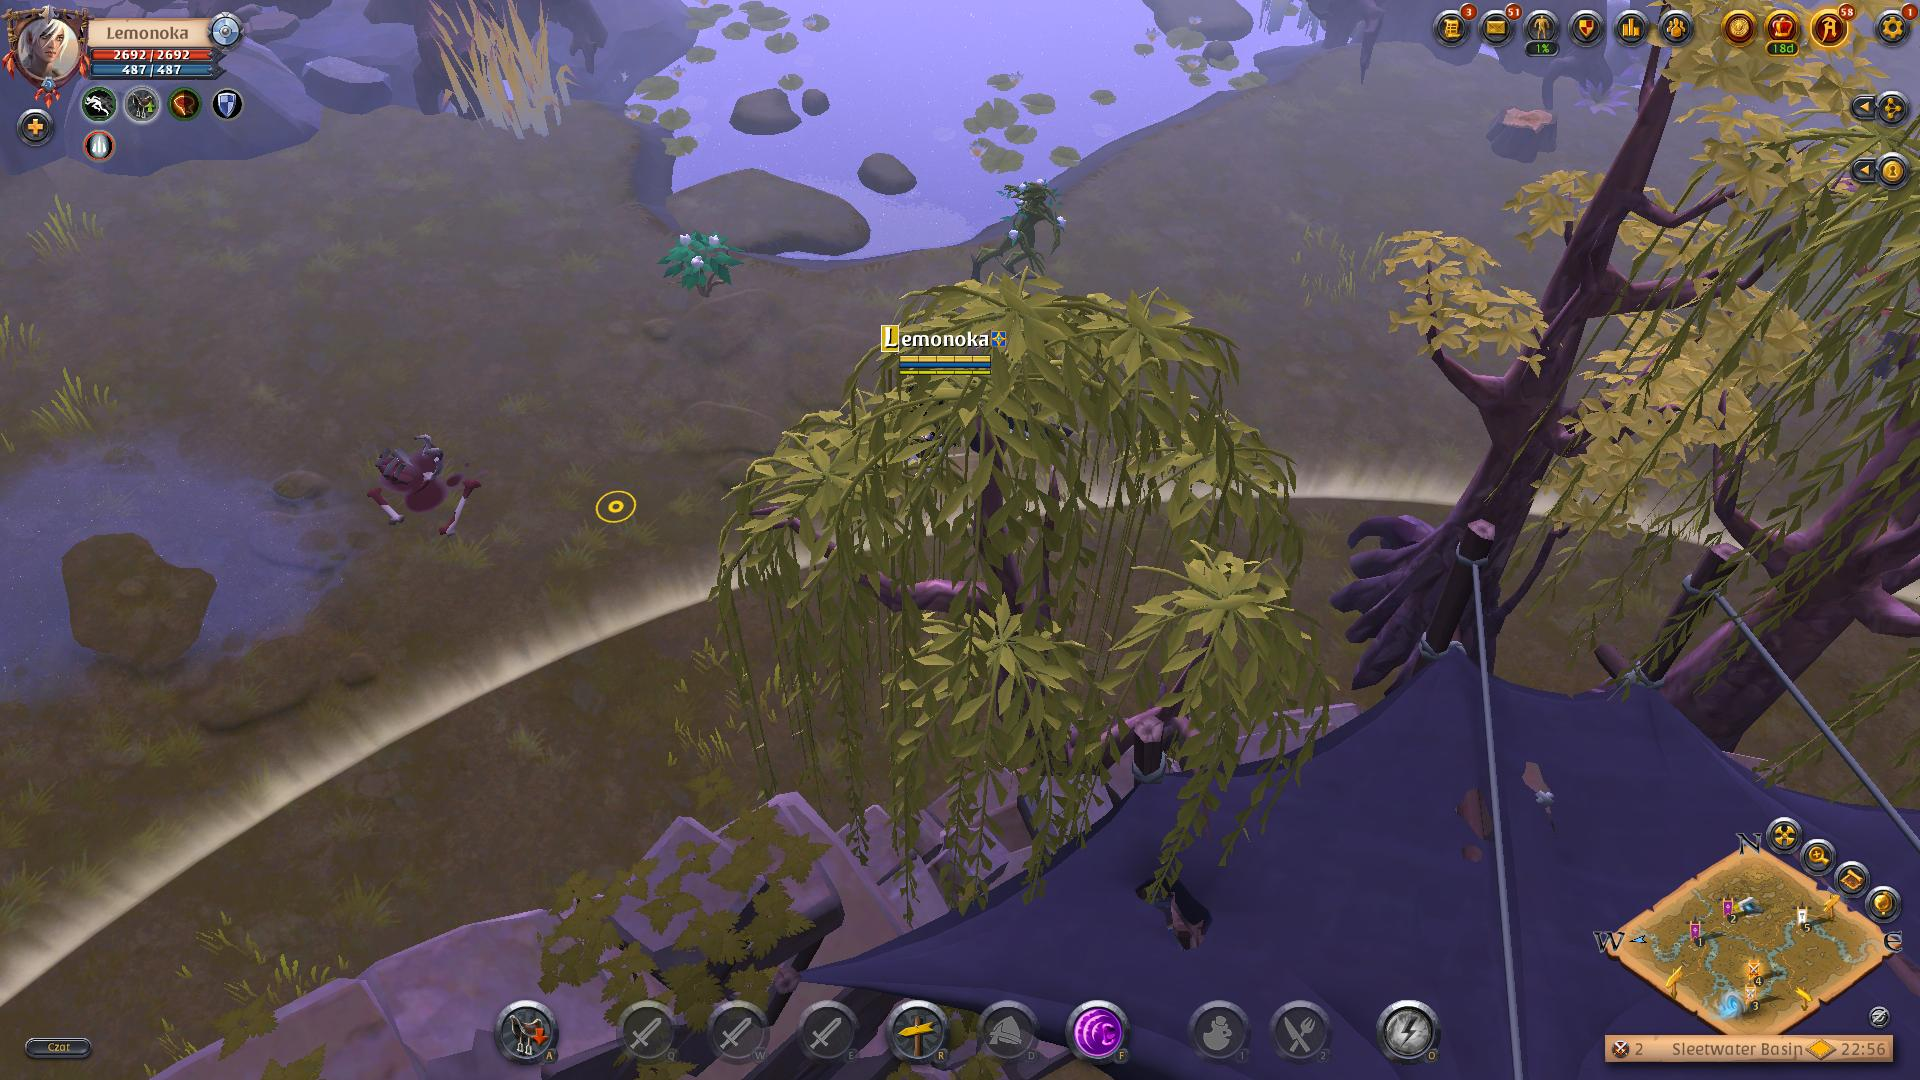fiber tier 3: (657, 228, 740, 297)
